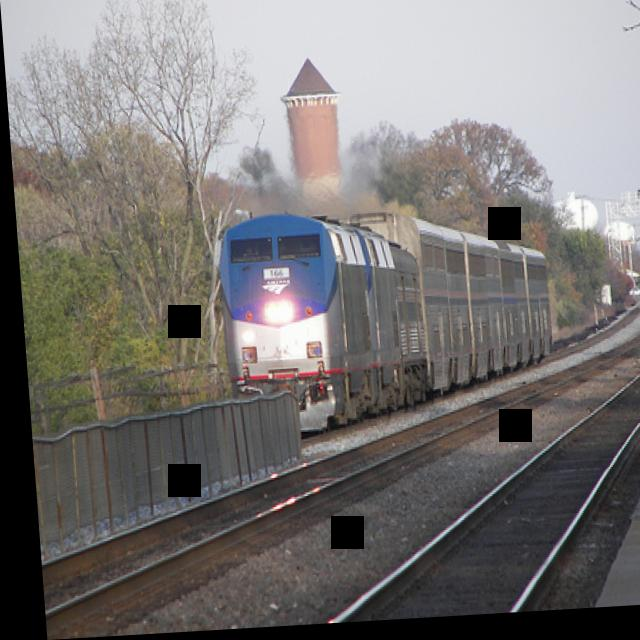locomotive: (209, 211, 375, 452)
